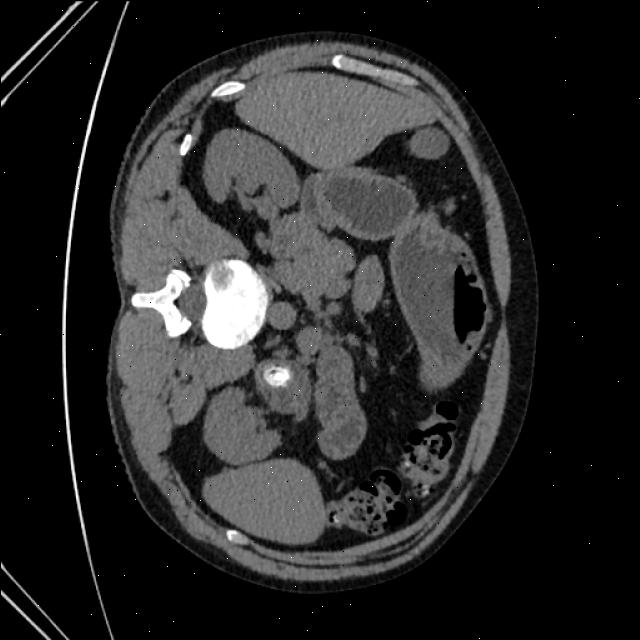kidneystone: (262, 365, 290, 388)
